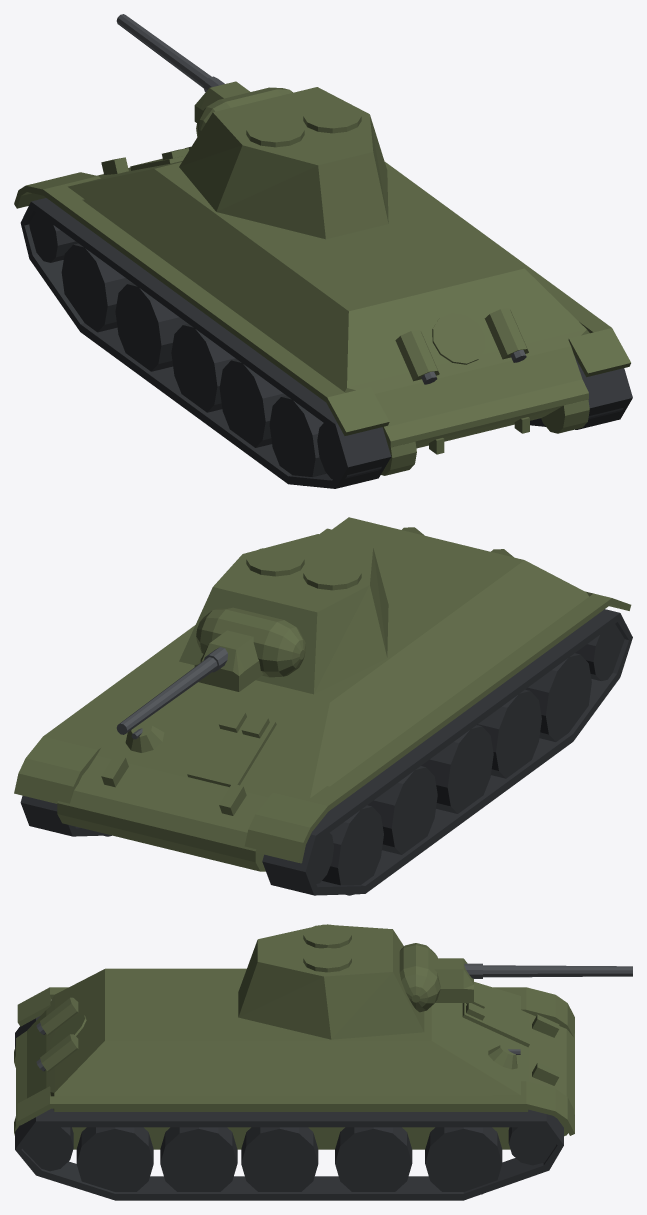
3 renders of one model, top to bottom at view 1: azimuth 30°, elevation 25°; view 2: azimuth 150°, elevation 25°; view 3: azimuth 270°, elevation 25°, orthographic. The views are drawn at different scales.
Visible parts, largest first — view 1: T34_Hull, T34_Turret, T34_Track_L, T34_Fender_L1, T34_Wheel_L3, T34_Wheel_L4, T34_Wheel_L1, T34_Wheel_L2, T34_Wheel_L0, T34_Track_R, T34_RearHatch, T34_Fender_L0 (+14 smaller); view 2: T34_Hull, T34_Turret, T34_Track_L, T34_Fender_L1, T34_Mantlet, T34_Wheel_L2, T34_Wheel_L3, T34_Wheel_L0, T34_Wheel_L1, T34_Wheel_L4, T34_DriverHatch, T34_MantletBox (+18 smaller); view 3: T34_Hull, T34_Track_R, T34_Turret, T34_Fender_R1, T34_Wheel_R1, T34_Wheel_R2, T34_Wheel_R3, T34_Wheel_R0, T34_Wheel_R4, T34_Mantlet, T34_Gun, T34_Sprocket_R (+16 smaller).
Boxes of the visible parts, x1=… form: T34_Hull: x1=68, y1=160, x2=589, y2=448; T34_Turret: x1=179, y1=87, x2=388, y2=239; T34_Track_L: x1=20, y1=198, x2=391, y2=488; T34_Fender_L1: x1=63, y1=200, x2=344, y2=401; T34_Wheel_L3: x1=115, y1=282, x2=187, y2=371; T34_Wheel_L4: x1=61, y1=243, x2=131, y2=332; T34_Wheel_L1: x1=219, y1=359, x2=285, y2=447; T34_Wheel_L2: x1=171, y1=323, x2=235, y2=412; T34_Wheel_L0: x1=269, y1=395, x2=326, y2=485; T34_Track_R: x1=530, y1=356, x2=632, y2=429; T34_RearHatch: x1=432, y1=313, x2=485, y2=364; T34_Fender_L0: x1=326, y1=387, x2=389, y2=435; T34_Hull: x1=57, y1=517, x2=589, y2=871; T34_Turret: x1=179, y1=534, x2=388, y2=694; T34_Track_L: x1=262, y1=609, x2=632, y2=895; T34_Fender_L1: x1=330, y1=593, x2=611, y2=796; T34_Mantlet: x1=196, y1=607, x2=305, y2=677; T34_Wheel_L2: x1=421, y1=725, x2=493, y2=813; T34_Wheel_L3: x1=367, y1=766, x2=437, y2=854; T34_Wheel_L0: x1=525, y1=653, x2=591, y2=741; T34_Wheel_L1: x1=477, y1=689, x2=541, y2=778; T34_Wheel_L4: x1=322, y1=805, x2=383, y2=895; T34_DriverHatch: x1=187, y1=710, x2=276, y2=787; T34_MantletBox: x1=194, y1=630, x2=263, y2=691; T34_Hull: x1=16, y1=968, x2=574, y2=1149; T34_Track_R: x1=15, y1=1108, x2=563, y2=1200; T34_Turret: x1=238, y1=924, x2=424, y2=1039; T34_Fender_R1: x1=50, y1=1096, x2=492, y2=1108; T34_Wheel_R1: x1=160, y1=1127, x2=237, y2=1191; T34_Wheel_R2: x1=241, y1=1127, x2=318, y2=1191; T34_Wheel_R3: x1=335, y1=1127, x2=412, y2=1191; T34_Wheel_R0: x1=76, y1=1127, x2=153, y2=1191; T34_Wheel_R4: x1=425, y1=1127, x2=502, y2=1194; T34_Mantlet: x1=399, y1=943, x2=440, y2=1012; T34_Gun: x1=483, y1=965, x2=632, y2=977; T34_Sprocket_R: x1=22, y1=1127, x2=73, y2=1171.
Size of the model in its own units: 3 by 2.35 by 6.73.
